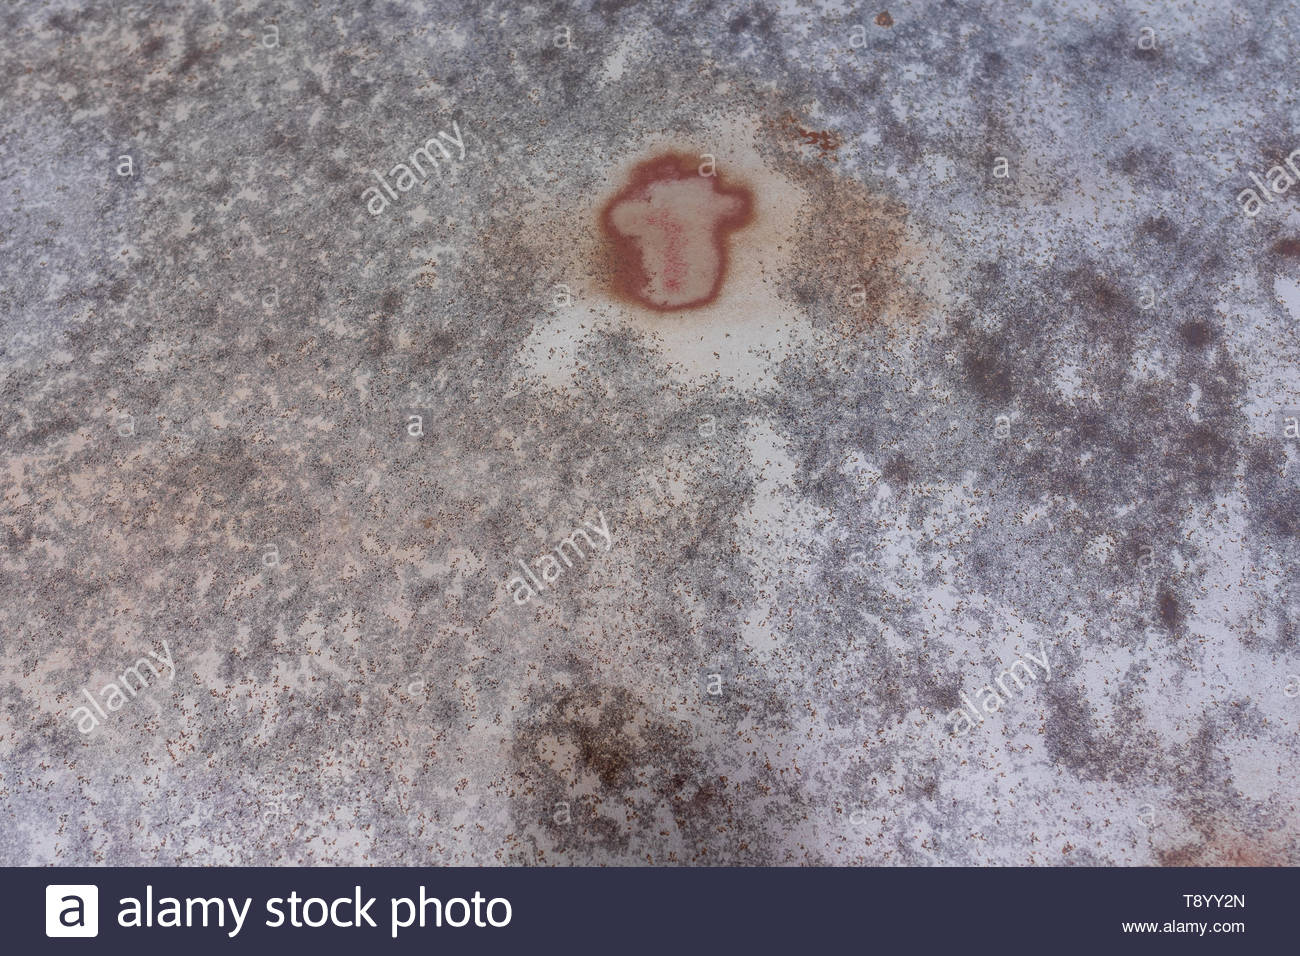rust: (578, 147, 761, 324)
